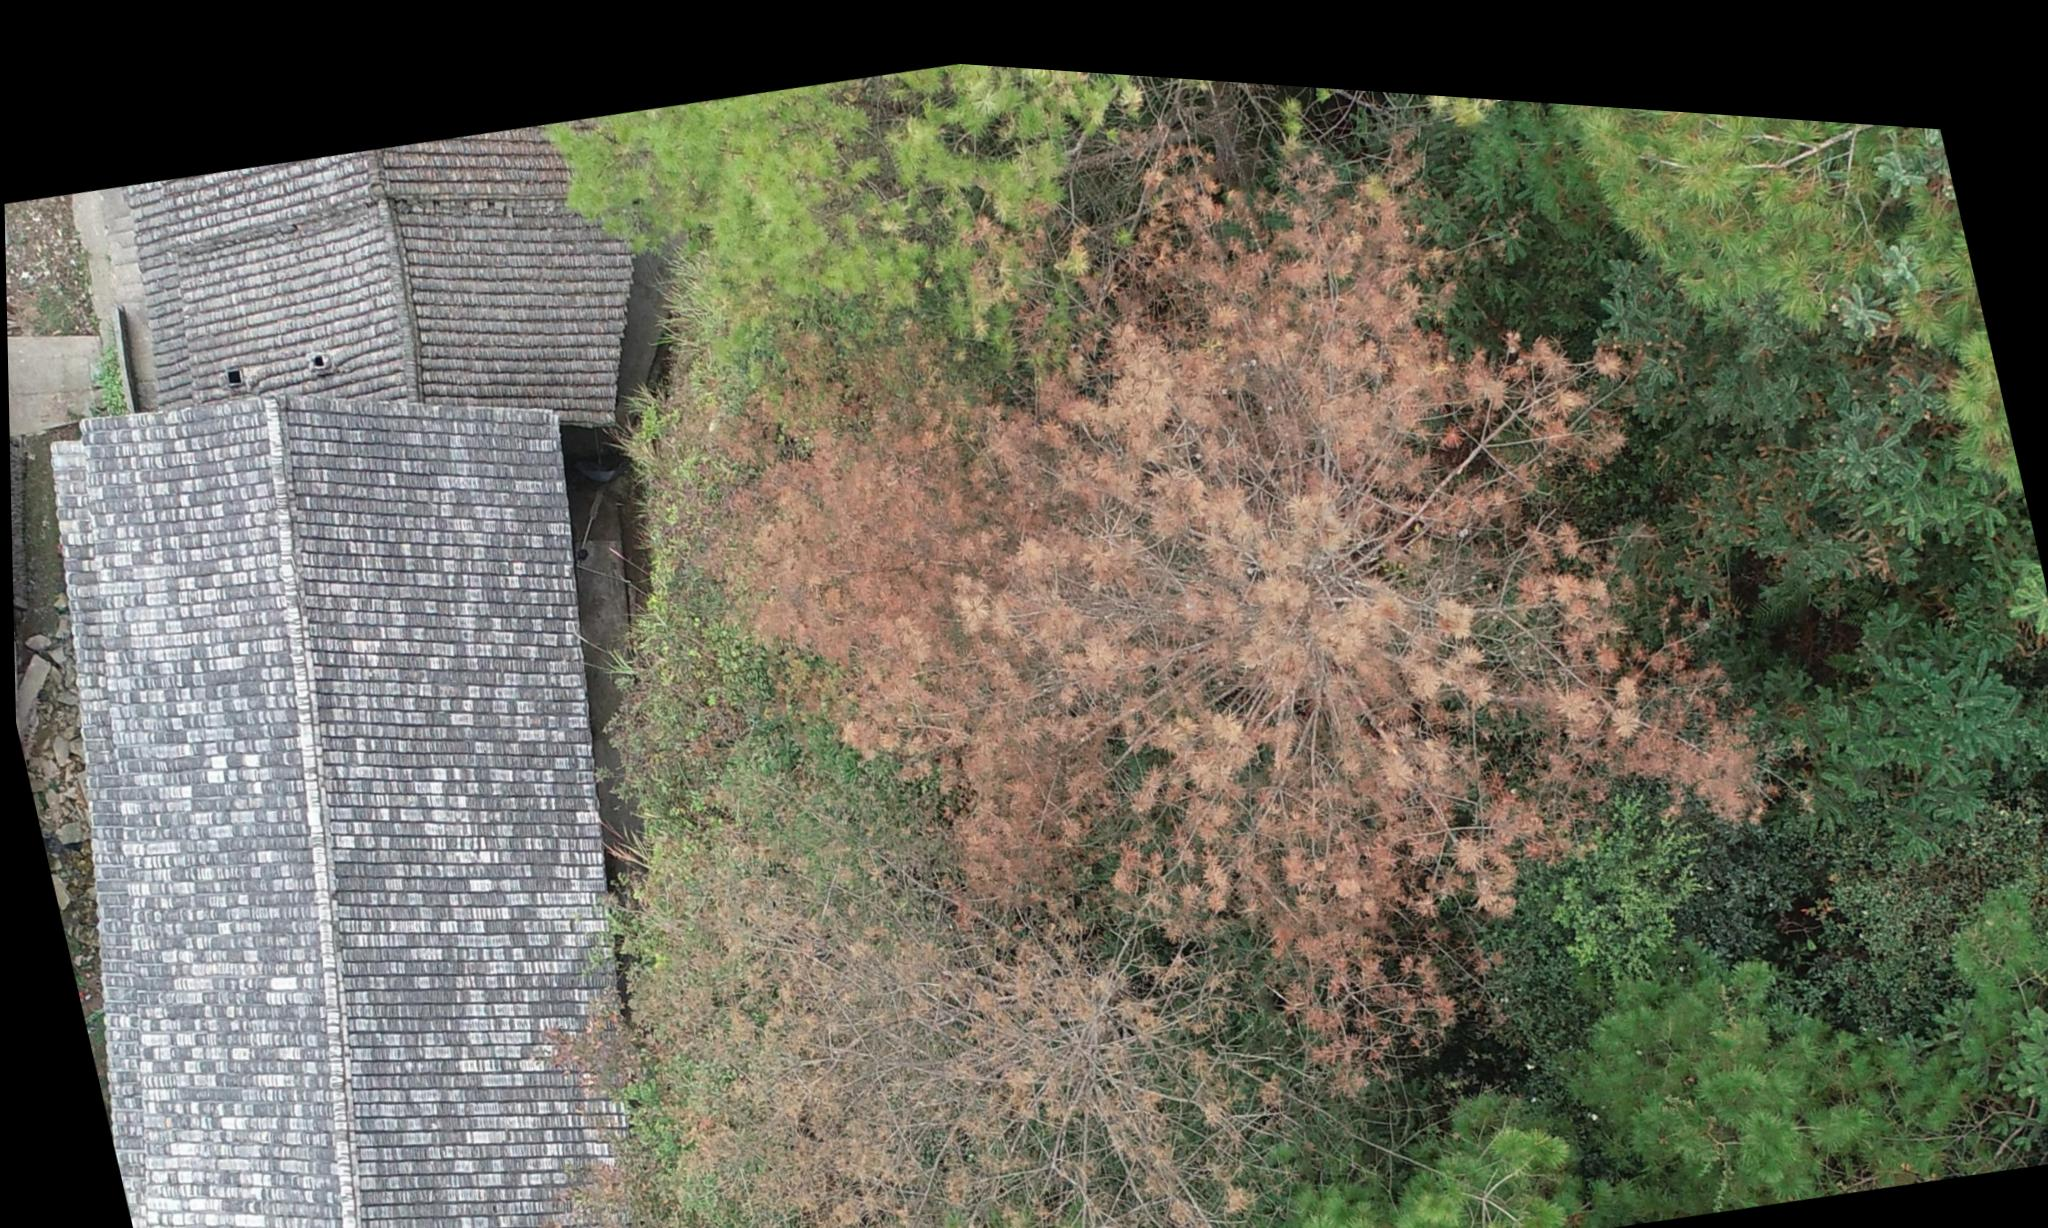dead: (472, 773, 934, 1228)
heavy: (709, 37, 1742, 1111)
light: (1533, 80, 1979, 380)
